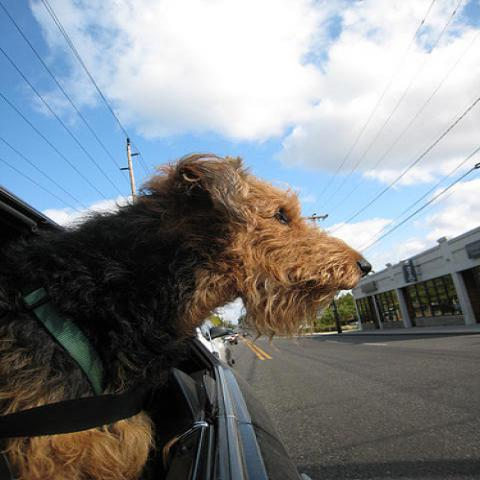car: (3, 187, 296, 474)
